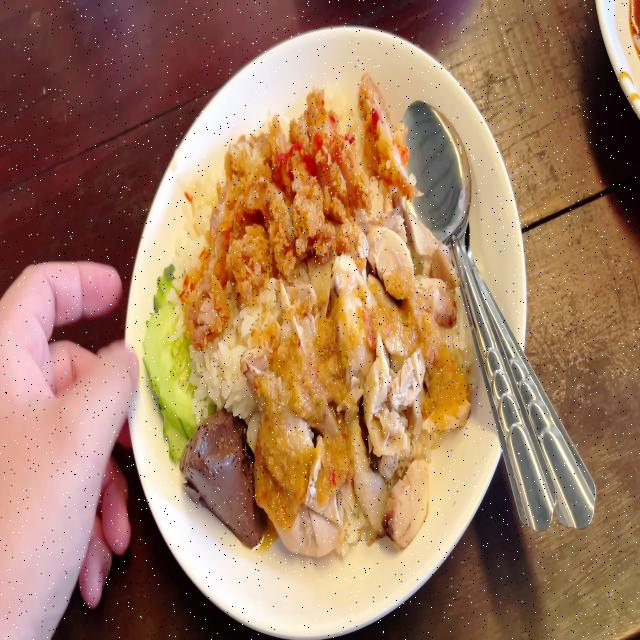boiled_chicken: (265, 214, 459, 532)
boiled_chicken_blood_jelly: (182, 403, 258, 542)
chicken_rice: (144, 76, 471, 556)
cucumber: (146, 268, 203, 444)
fried_chicken: (180, 86, 406, 309)
